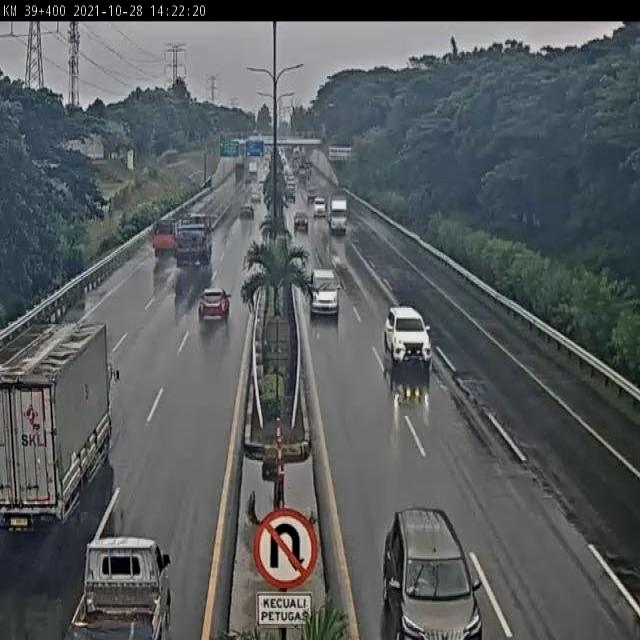Car: (380, 508, 484, 640), (383, 304, 435, 366), (292, 210, 310, 231), (312, 196, 328, 217), (238, 204, 255, 220), (250, 190, 262, 202)
Truck: (0, 320, 123, 534), (67, 532, 175, 640), (172, 210, 215, 267), (151, 217, 178, 261), (327, 194, 348, 237), (234, 161, 245, 182), (248, 159, 259, 176)
Van: (306, 267, 342, 315)
